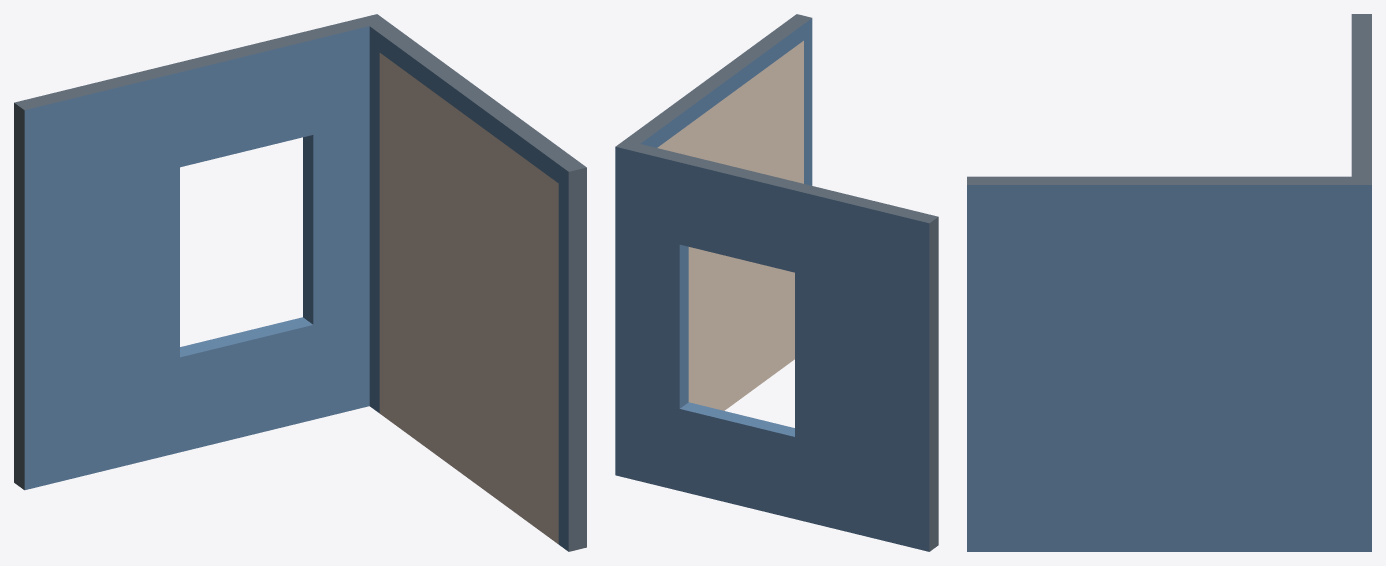
Rendered from Wal_2_11.fbx.
3 views of the same model, side by side, from view 1: azimuth 30°, elevation 25°; view 2: azimuth 150°, elevation 25°; view 3: azimuth 270°, elevation 25° (orthographic). The views are drawn at different scales.
Parts seen in each view (by area): view 1: polySurface1889; view 2: polySurface1889; view 3: polySurface1889.
Part boxes in pixels (<box>): polySurface1889: <box>14,14,586,551</box>; polySurface1889: <box>615,14,938,551</box>; polySurface1889: <box>967,14,1371,551</box>.
Size of the model in its own units: 4 by 4 by 4.
1 material, 1 textured.
